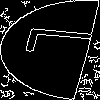L: (25, 25, 100, 60)
